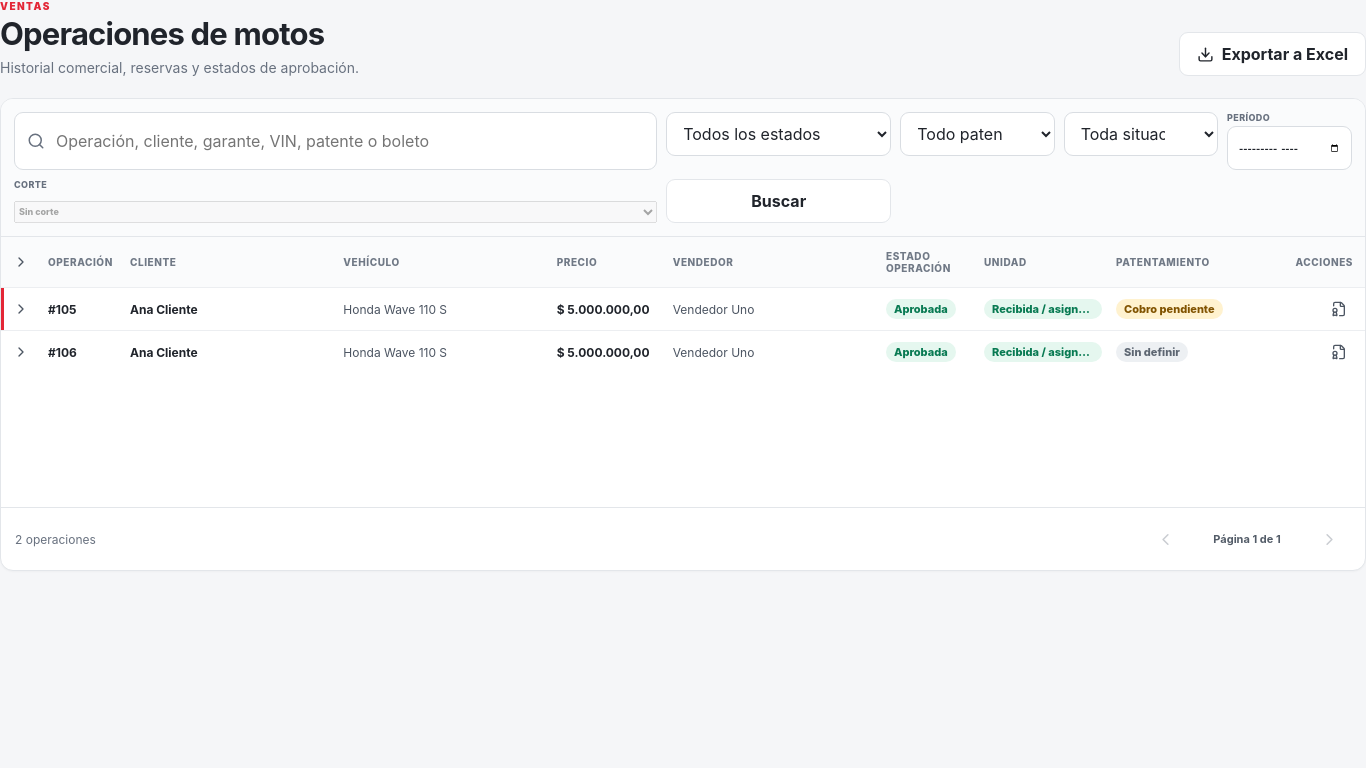
Patentamiento en la grilla administrativa › abre la gestión de patentamiento desde la fila
The width and height of the screenshot is (1366, 768).
Expected: the table is shown, [1,237,1365,373]
Click the button named "Gestionar patentamiento de la operación #105" at (1339, 309), box [1325,295,1353,323]
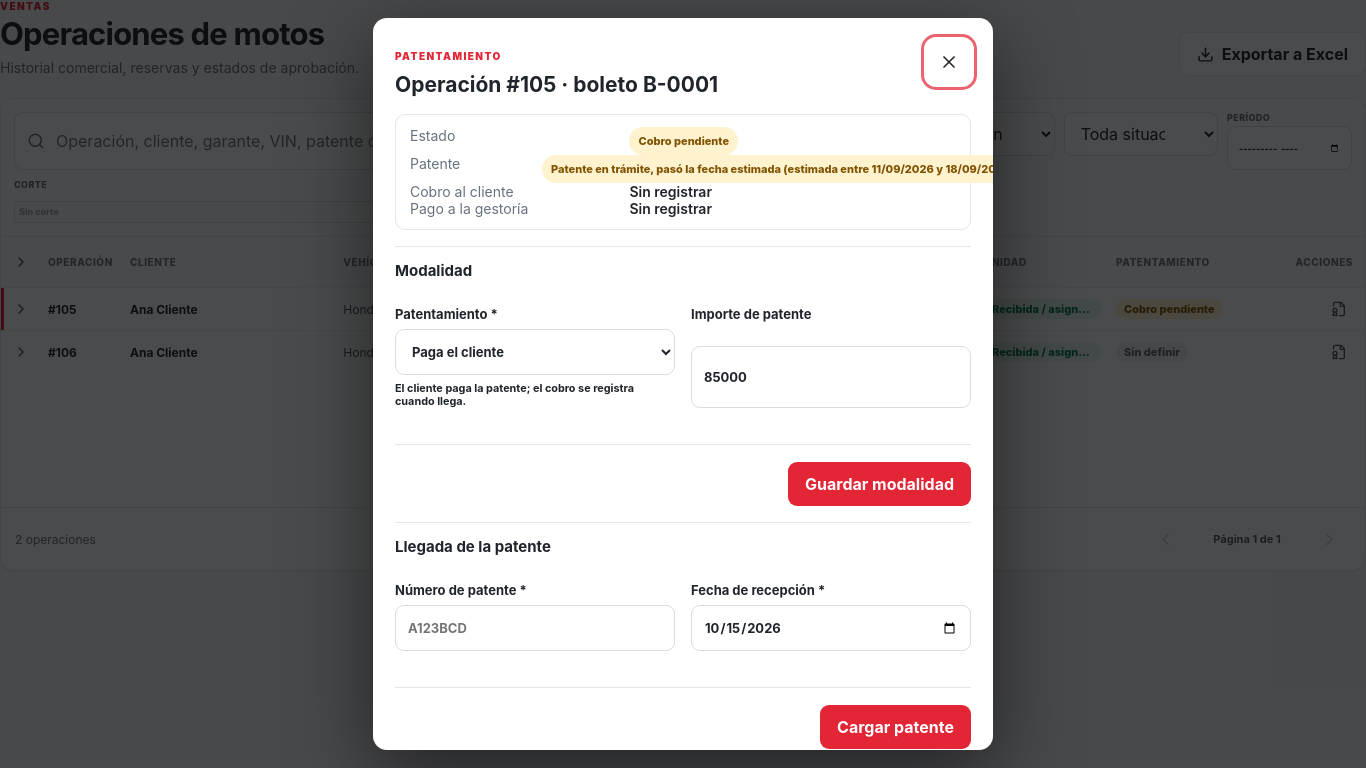
Now the dialog "Operación #105 · boleto B-0001" is shown, box [373,18,993,750]
